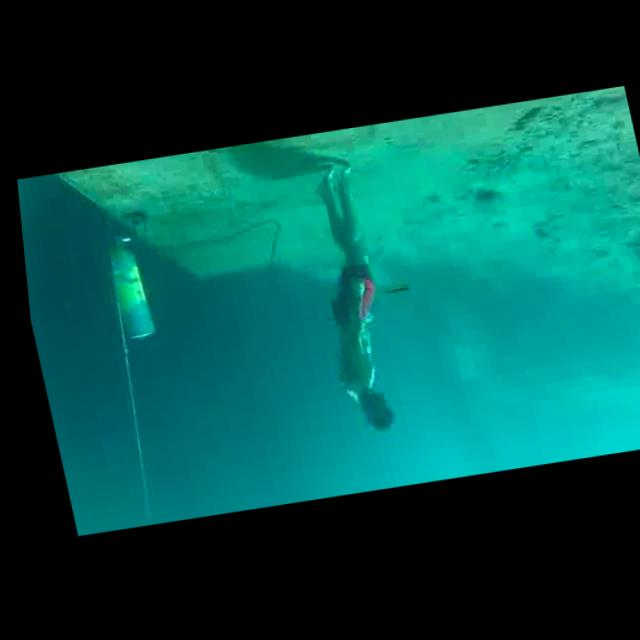human: (280, 157, 406, 443)
